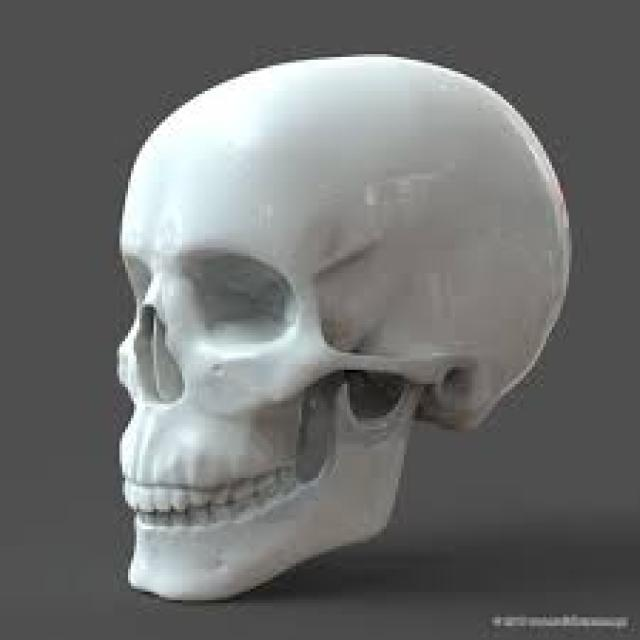skull: (103, 41, 590, 606)
